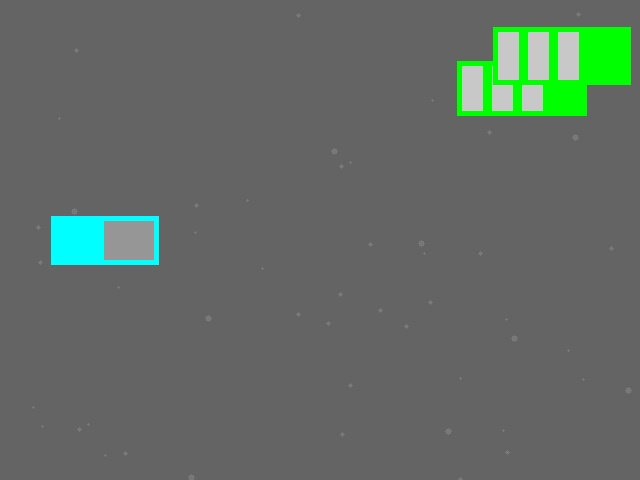bus: (493, 27, 630, 84), (457, 61, 586, 115)
truck: (51, 216, 158, 264)
